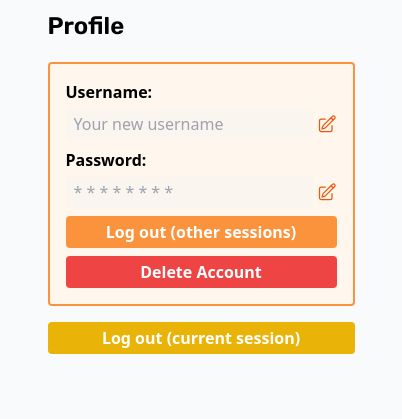
Test: ProfileView › logout (other-sessions) › on failure › displays any errors
Click the button with test id "logout-other-sessions-button" at [201, 232], box [66, 216, 336, 248]
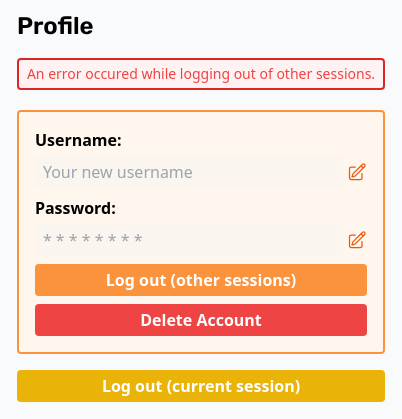
Result: the list with test id "profile-view-errors" is shown at [17, 58, 385, 90]
Result: the list with test id "profile-view-errors" reads "An error occured while logging out of other sessions." at [27, 64, 375, 83]
